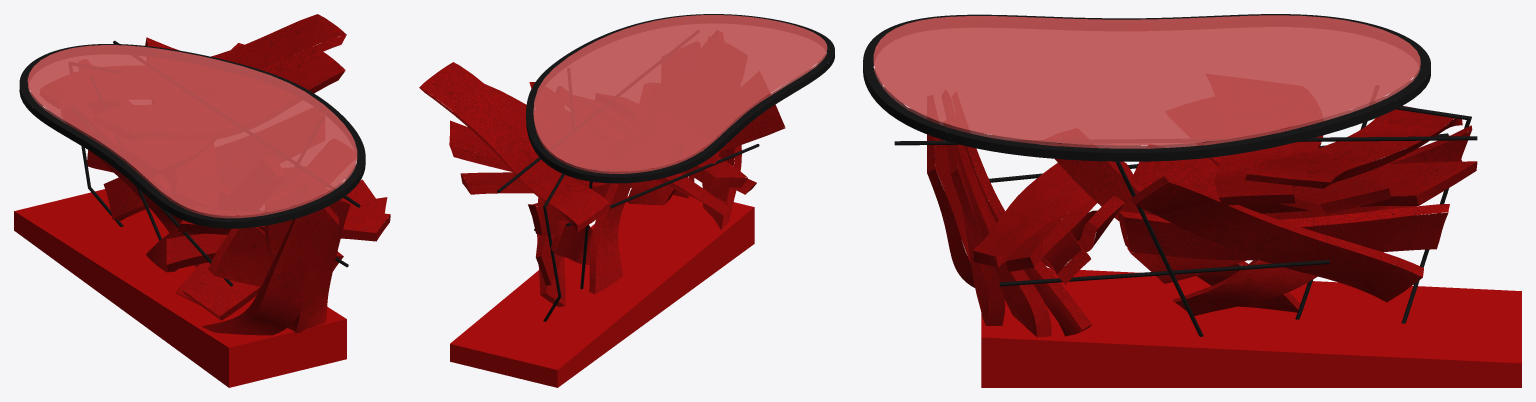
File: BROWNSHARKTABLE-RED-v80.glb
The picture shows the model from 3 angles, left to right: view 1: azimuth 30°, elevation 25°; view 2: azimuth 150°, elevation 25°; view 3: azimuth 270°, elevation 25°; orthographic projection. The views are drawn at different scales.
Visible parts, largest first — view 1: BROWNSHARKTABLE-RED; view 2: BROWNSHARKTABLE-RED; view 3: BROWNSHARKTABLE-RED.
Part boxes in pixels (x1=…): BROWNSHARKTABLE-RED: x1=14, y1=14, x2=390, y2=387; BROWNSHARKTABLE-RED: x1=419, y1=14, x2=834, y2=387; BROWNSHARKTABLE-RED: x1=863, y1=14, x2=1521, y2=387.
Size of the model in its own units: 1.88 by 1.34 by 2.86.
Materials: 4 (1 with a texture image).
